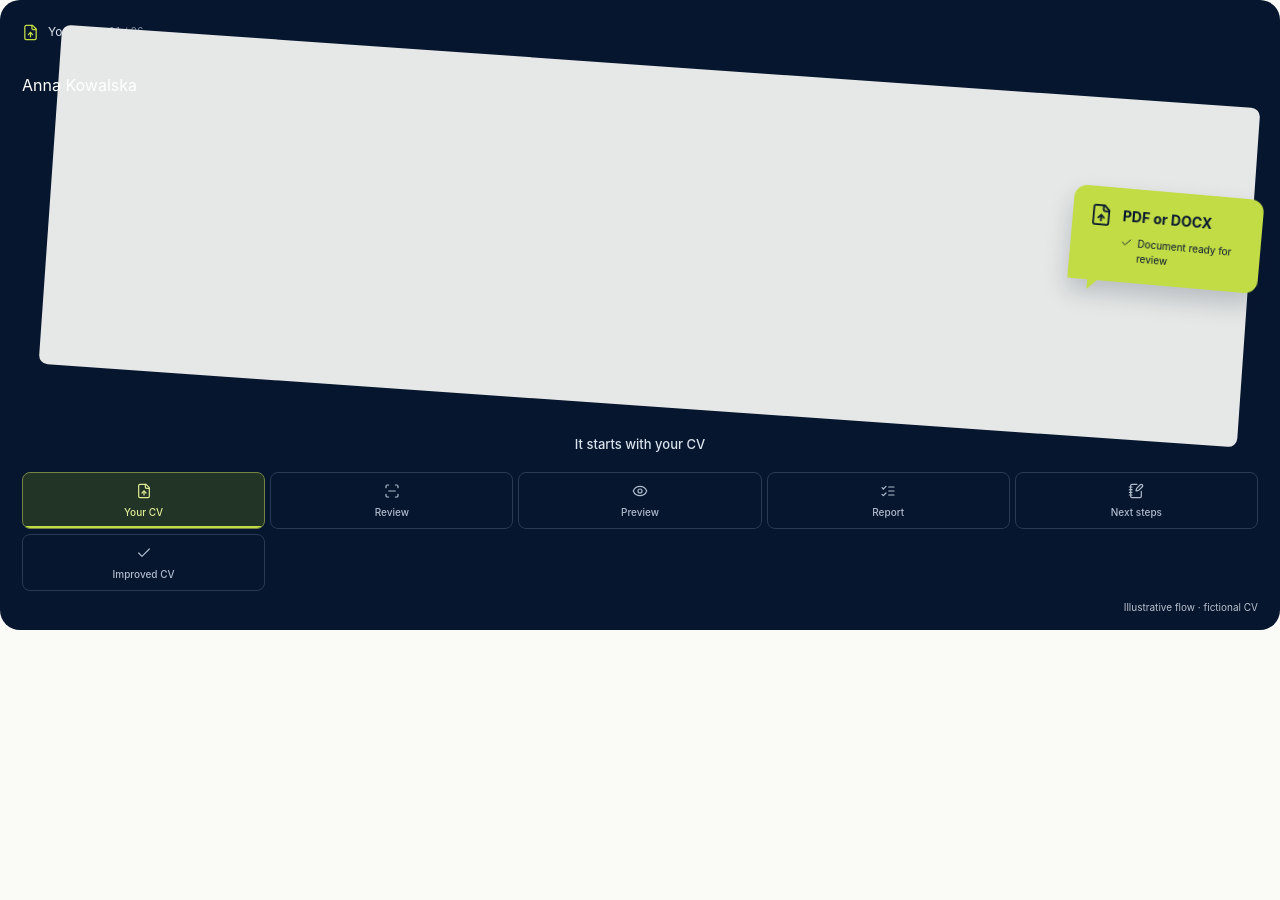
Test: animated CV flow › respects reduced motion and keeps localized manual navigation in en
The image size is (1280, 900).
Click the button with aria-label "Show stage: Report".
click(888, 500)  # box [767, 472, 1010, 529]
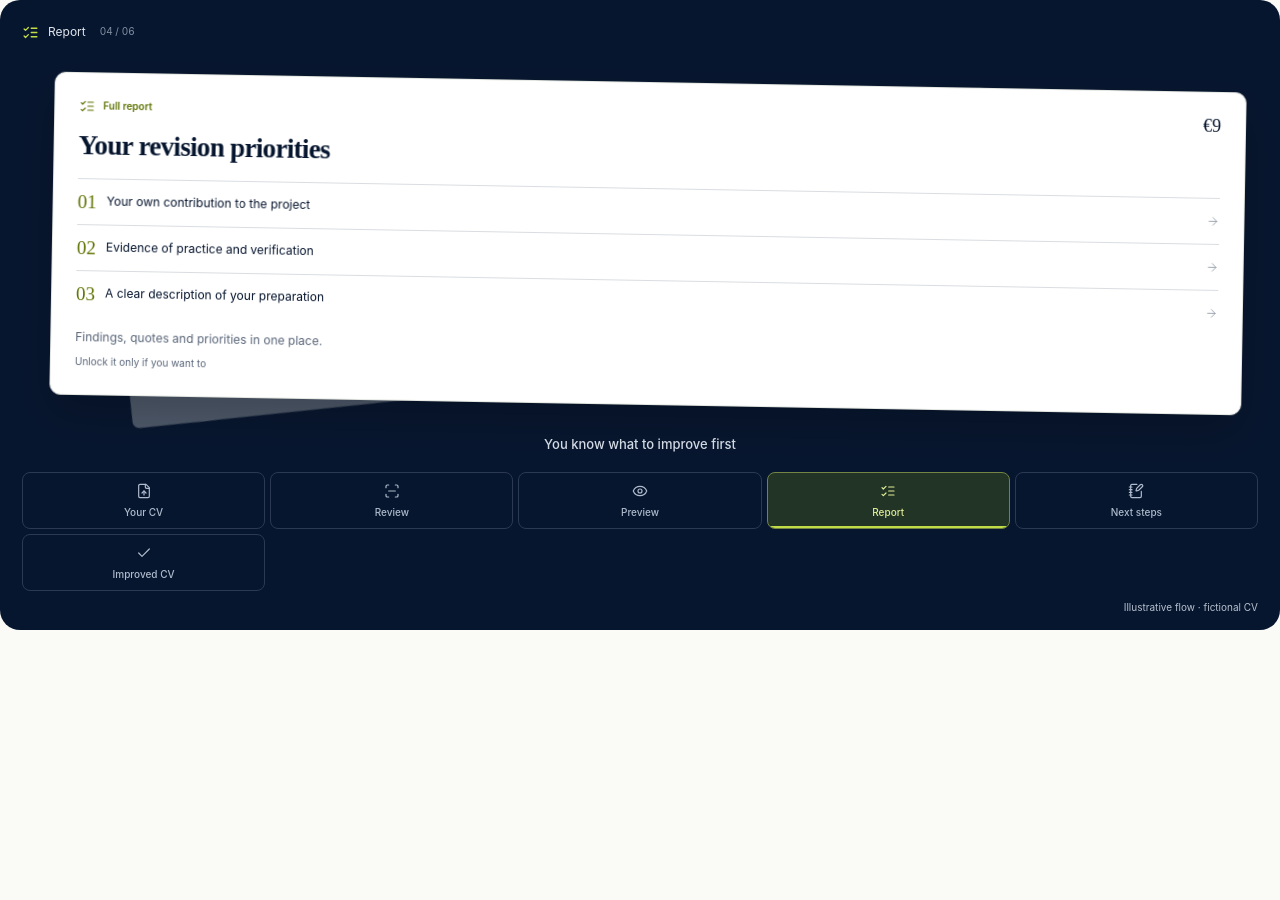
Check: the heading "Your revision priorities" is shown, box [78, 130, 330, 164]
Check: the text "€9" is shown, box [1203, 117, 1221, 135]
